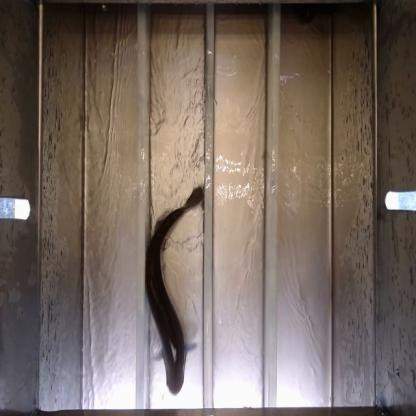pezw: (152, 184, 206, 397)
